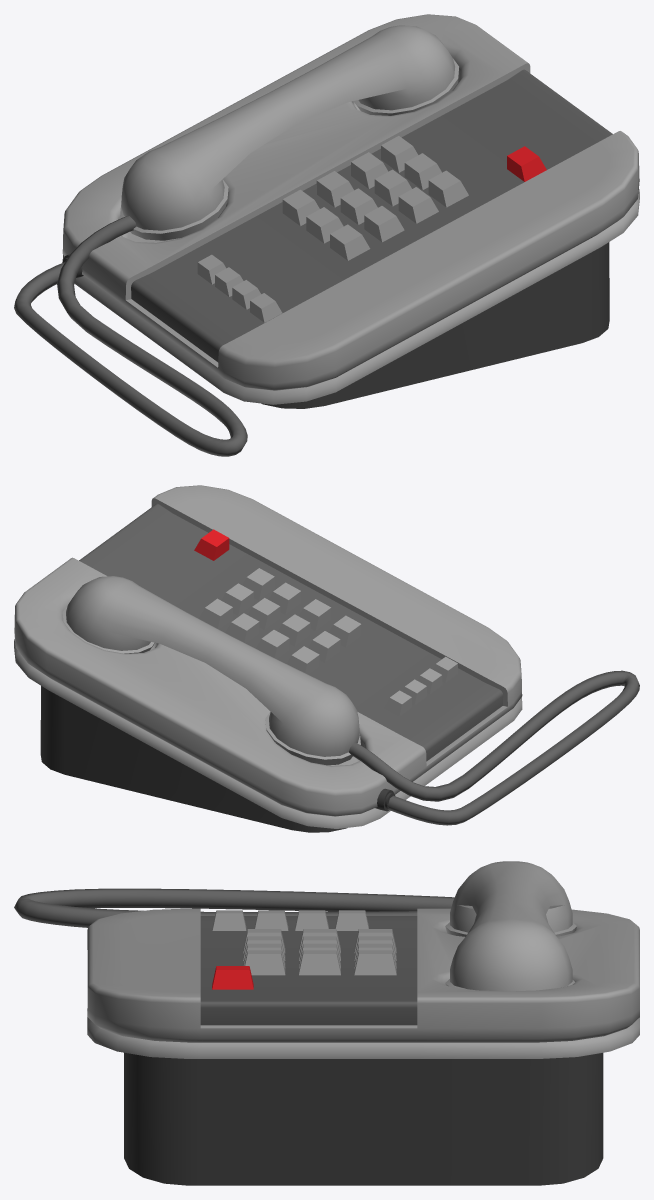
File: Office Phone.fbx
3 views of the same model, one above another, from view 1: azimuth 30°, elevation 25°; view 2: azimuth 150°, elevation 25°; view 3: azimuth 270°, elevation 25° (orthographic). The views are drawn at different scales.
Visible parts, largest first — view 1: Office Phone; view 2: Office Phone; view 3: Office Phone.
Part boxes in pixels (x1,y1,x2,y2): Office Phone: [14, 14, 639, 456]; Office Phone: [14, 485, 639, 832]; Office Phone: [14, 861, 639, 1185].
Size of the model in its own units: 0.1472 by 0.1378 by 0.0553.
